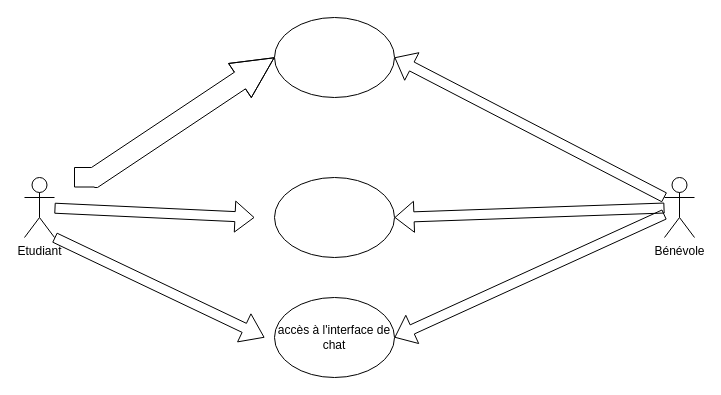
This 721x395 diagram has some shape labels left out. The shapes that lost their labels are listed below. From the top down, each one's centre as x and y in pixels, then its label:
At point 334,57: "accès gestionnaire de tache".
At point 334,217: "accès à la page calendrier".
